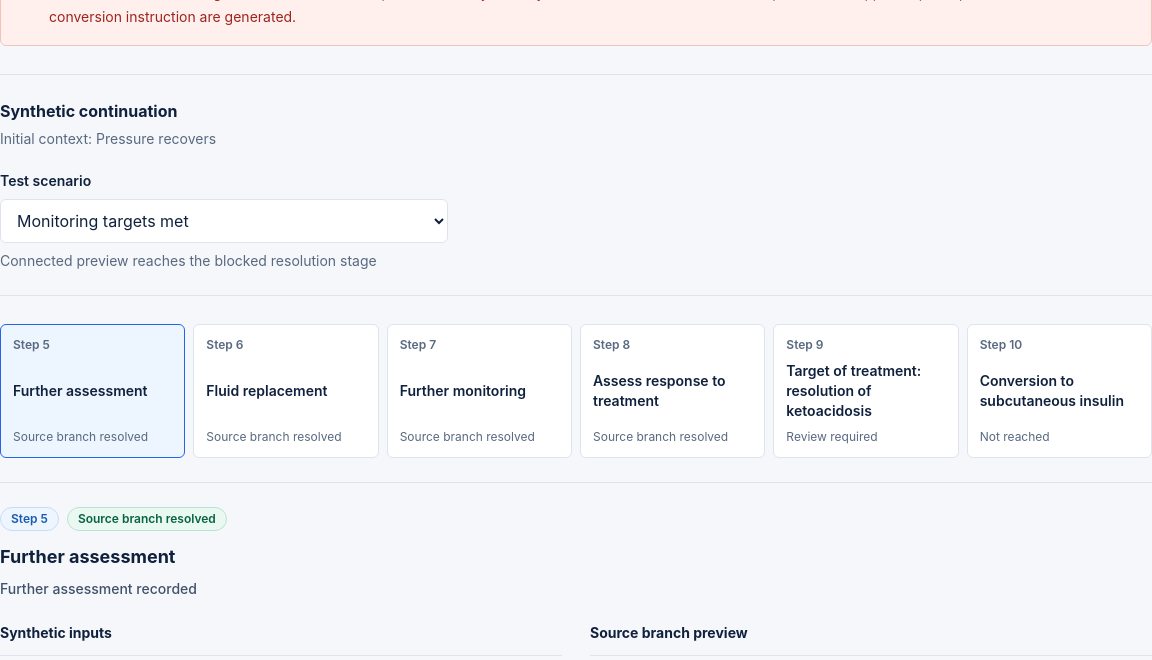
Test: DKA Steps 5-10 technical review › switches only fixed synthetic scenarios and preserves the initial context
expect the text "Initial context: Pressure recovers" is shown: met, box [0, 130, 216, 147]
Click the button "Step 7 Further monitoring Source branch resolved" at (479, 391), box [387, 324, 572, 458]
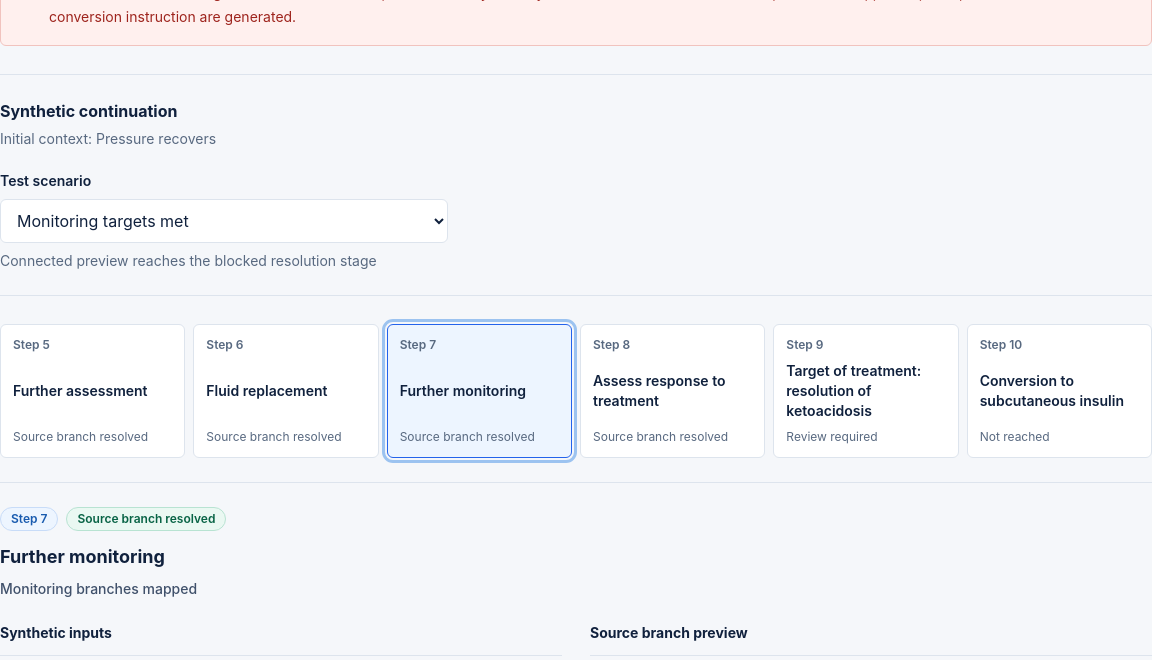
Click the button "Step 8 Assess response to treatment Source branch resolved" at (673, 391), box [580, 324, 765, 458]
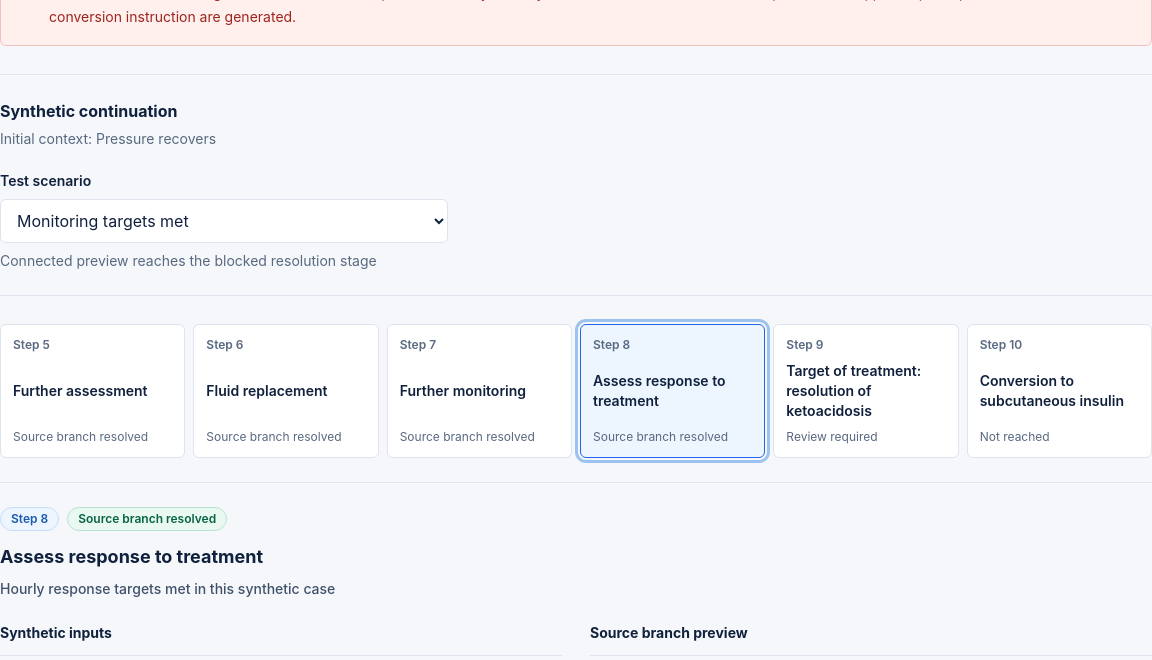
Click the button "Step 9" at (866, 391), box [773, 324, 959, 458]
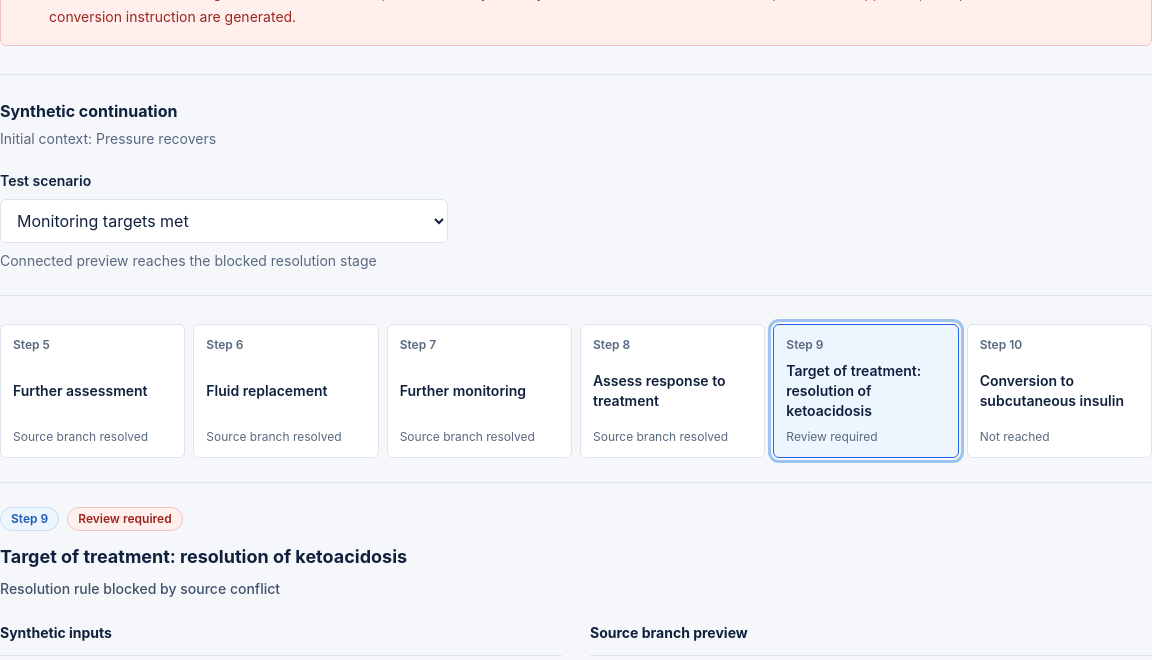
Select "Pump mapping" in the dropdown labelled "Test scenario" at (224, 221), box [0, 199, 448, 243]
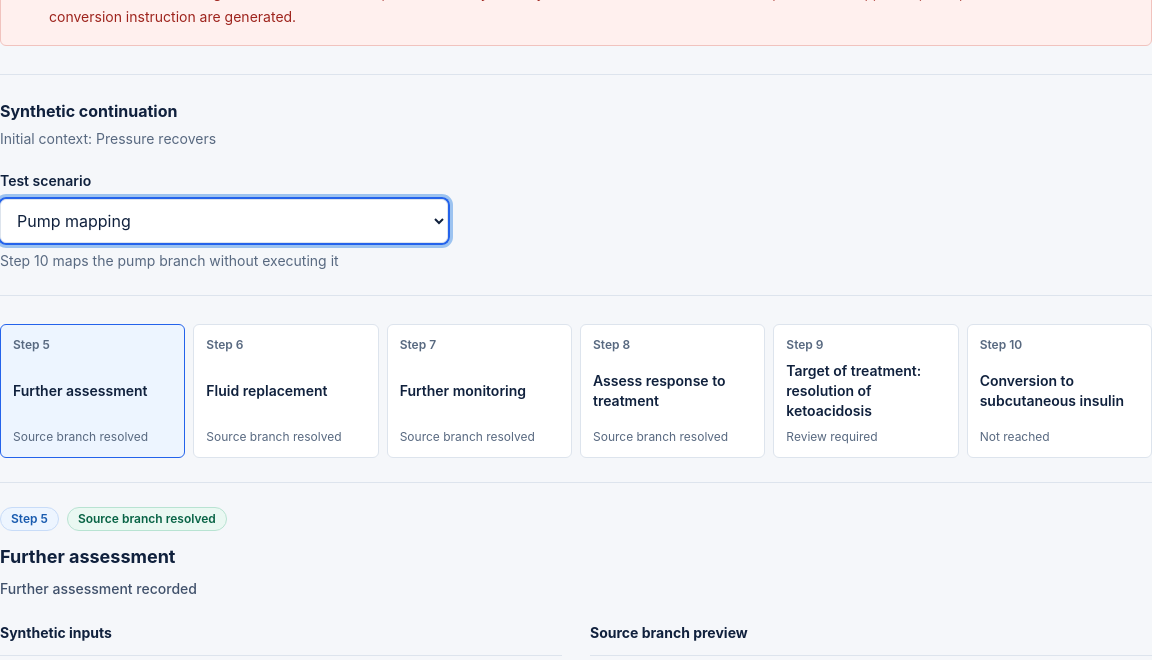
Click the button "Step 10 Conversion to subcutaneous insulin Not reached" at (1059, 391), box [967, 324, 1151, 458]
(page scrolled)
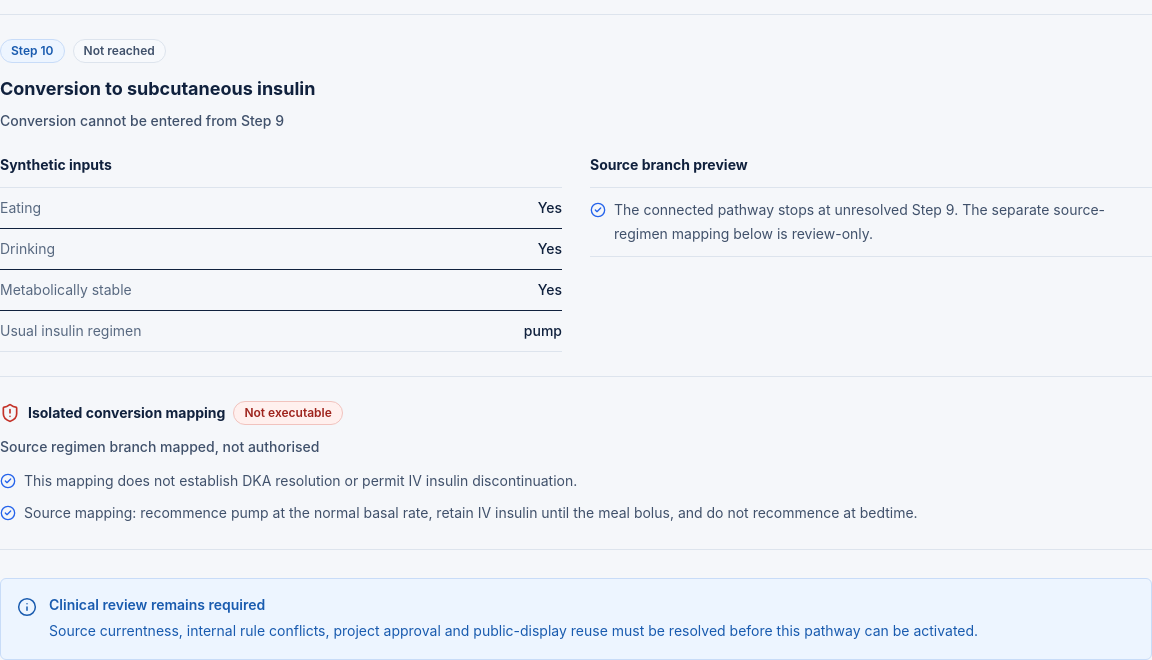
expect the heading "Isolated conversion mapping" is shown: met, box [28, 403, 225, 423]
expect the list item "recommence pump at the normal basal rate" is shown: met, box [24, 504, 918, 521]
expect the text "Not executable" is shown: met, box [233, 401, 343, 425]
